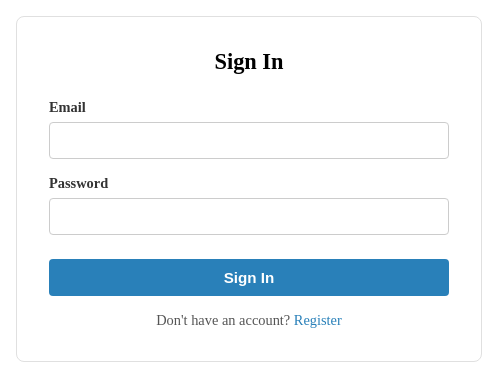
Test: LoginPage › disables button while loading
Type "test@example.com" into the field labelled "Email". click: point(249, 140)
box: [49, 122, 449, 159]
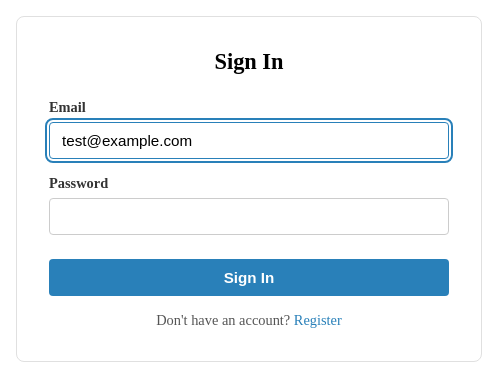
Type "password123" into the password field labelled "Password". click: point(249, 216)
box: [49, 198, 449, 235]
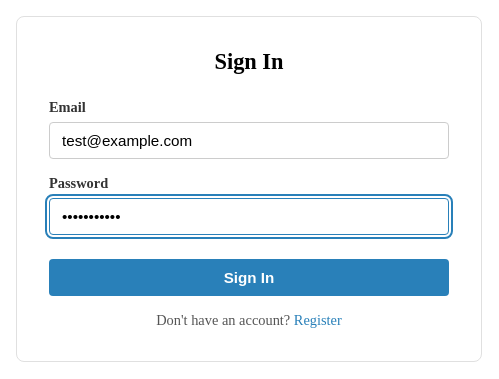
Click the button "Sign In". click: point(249, 278)
box: [49, 259, 449, 296]
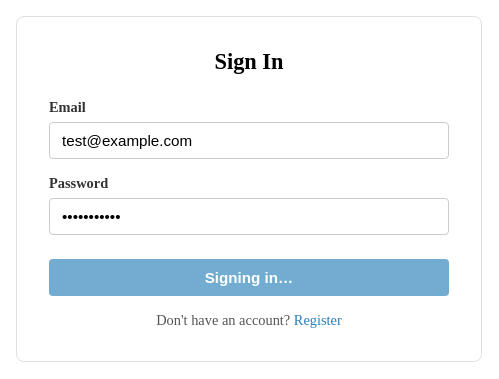
Check: the button "Signing in…" is disabled, box [49, 259, 449, 296]
